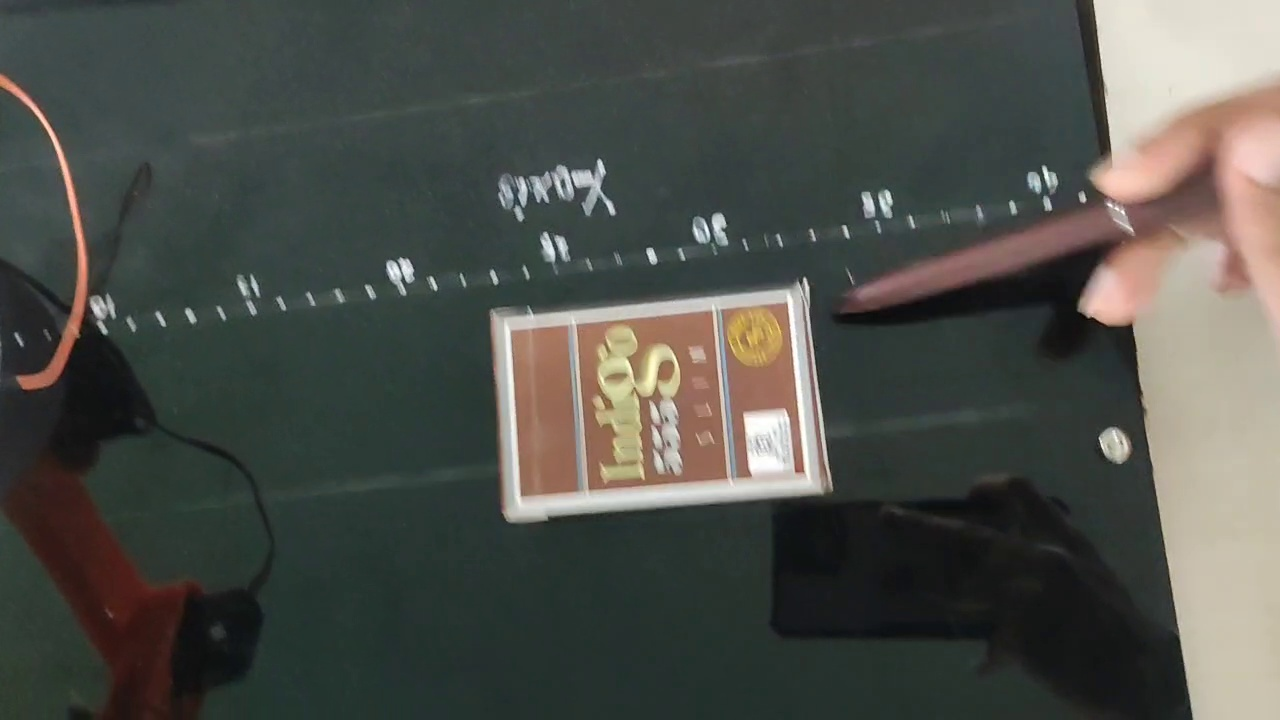BEX: (507, 298, 810, 507)
